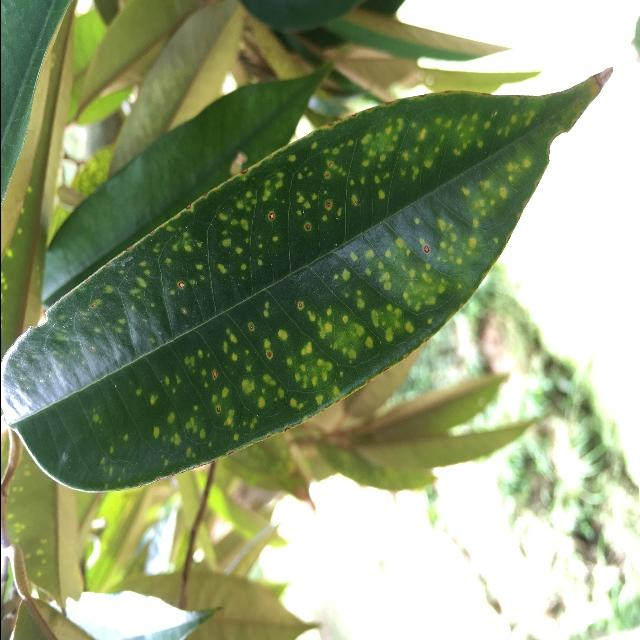Leaf Spot: (0, 63, 614, 499)
